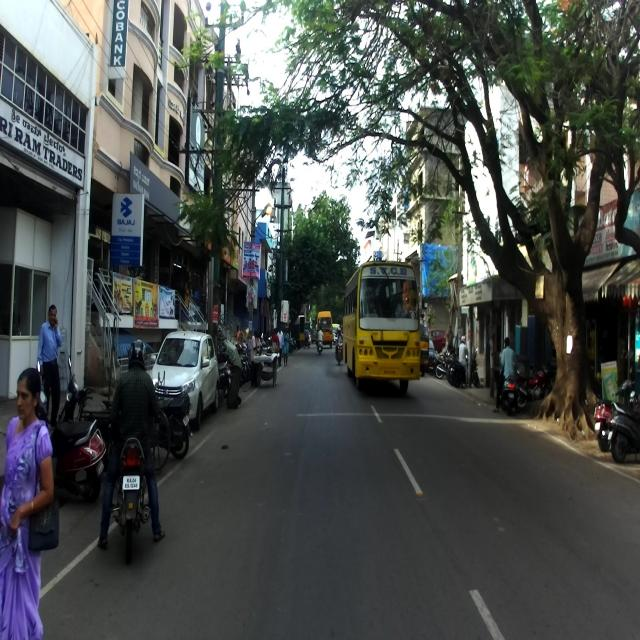Car_Maruti-Suzuki: (150, 330, 220, 430)
bus: (339, 264, 420, 392)
motorcycle_TVS: (107, 411, 161, 564), (152, 382, 192, 460)
scooter: (34, 360, 108, 503), (593, 366, 637, 452), (606, 391, 640, 462)
